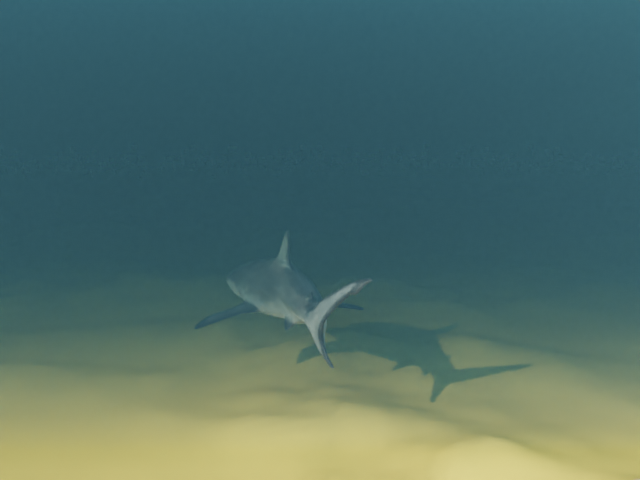Carribean Shark.001: (193, 229, 372, 368)
